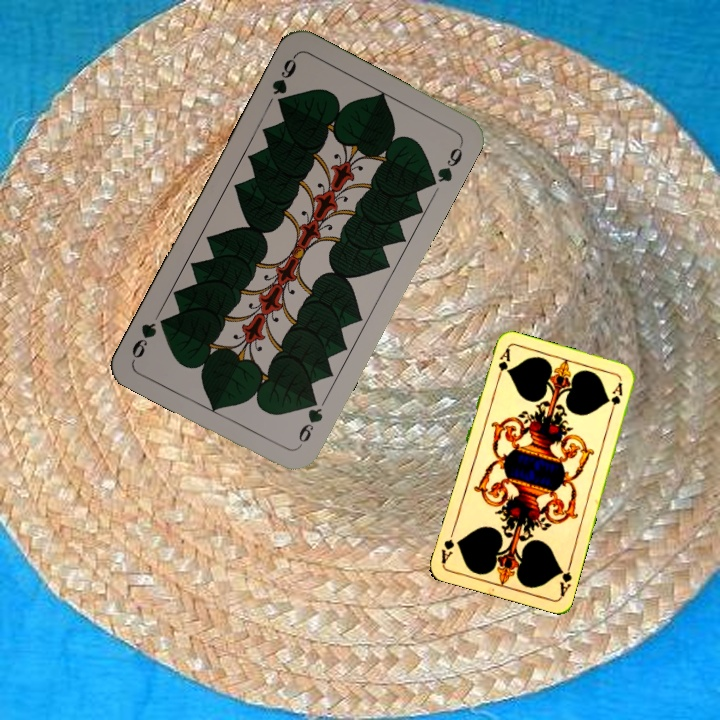G9: (294, 391, 326, 450), (268, 51, 299, 111)
GA: (555, 559, 574, 599), (493, 344, 512, 384)
